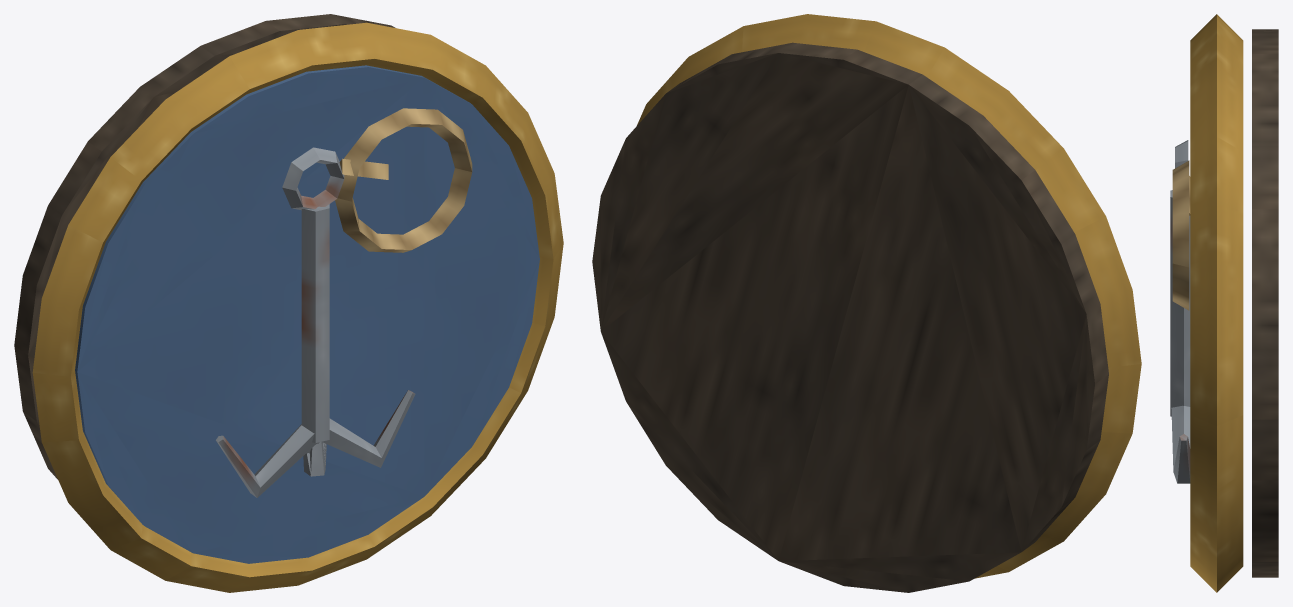
File: SM_Emblem_Climber.fbx
3 renders of one model, left to right at view 1: azimuth 30°, elevation 25°; view 2: azimuth 150°, elevation 25°; view 3: azimuth 270°, elevation 25°, orthographic. The views are drawn at different scales.
Visible parts, largest first — view 1: SM_Emblem_Climber; view 2: SM_Emblem_Climber; view 3: SM_Emblem_Climber.
Part boxes in pixels (left/top/right/bottom): SM_Emblem_Climber: left=14, top=14, right=563, bottom=592; SM_Emblem_Climber: left=592, top=14, right=1141, bottom=592; SM_Emblem_Climber: left=1170, top=14, right=1278, bottom=592.
Bounding box in the file's own units: 2.64 × 2.64 × 0.4906.
1 material, 1 textured.
